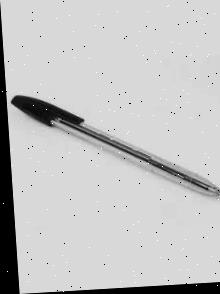pen-pencil: (12, 96, 220, 196)
